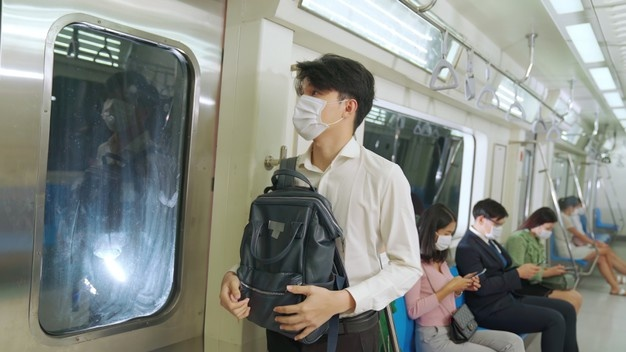with_mask: (293, 80, 345, 139), (430, 215, 455, 252), (484, 212, 503, 238), (538, 218, 554, 241)
